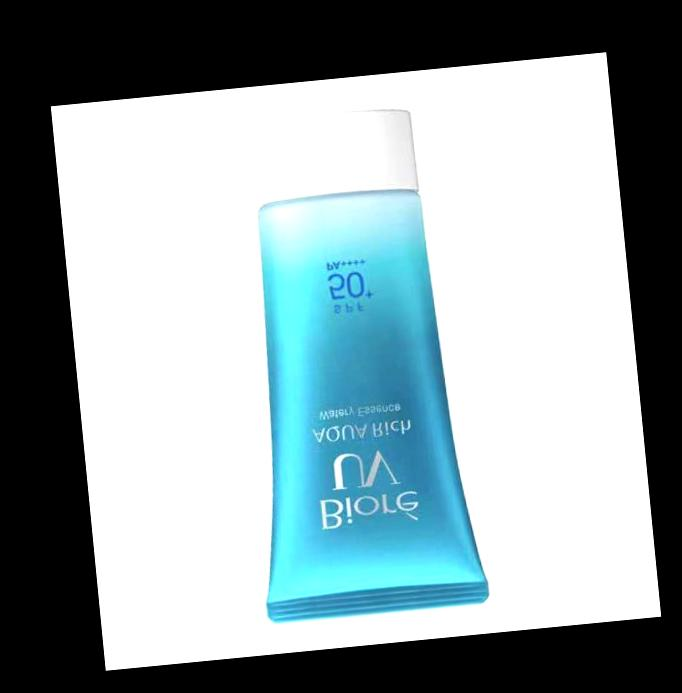cosmetic: (216, 100, 491, 626)
